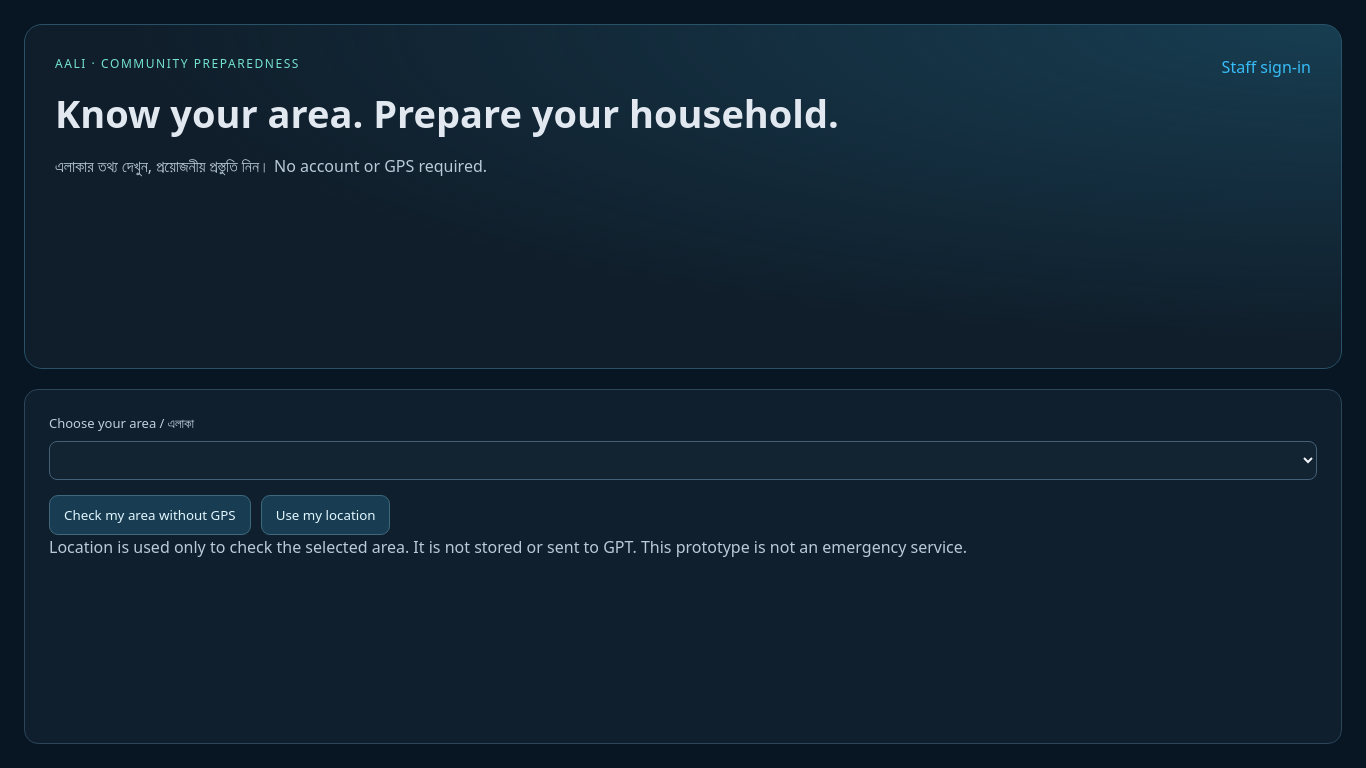
Scenario: public household preparedness › shows errors without leaving a loading state
Click the button "Check my area without GPS" at (150, 515), box [49,495,251,535]
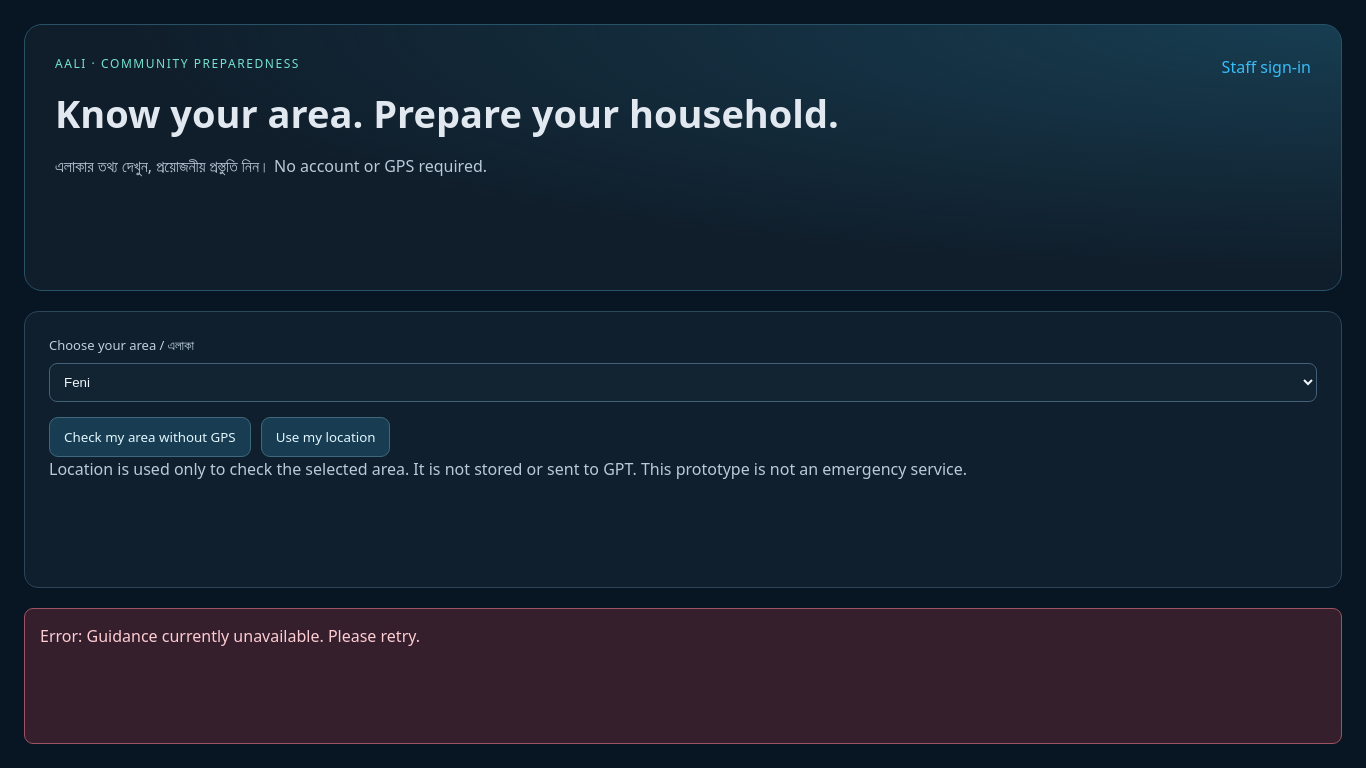
Expected: the button "Check my area without GPS" is enabled, [49,416,251,456]
Expected: the message "Error: Guidance currently unavailable. Please retry." is shown, [24,608,1342,744]
